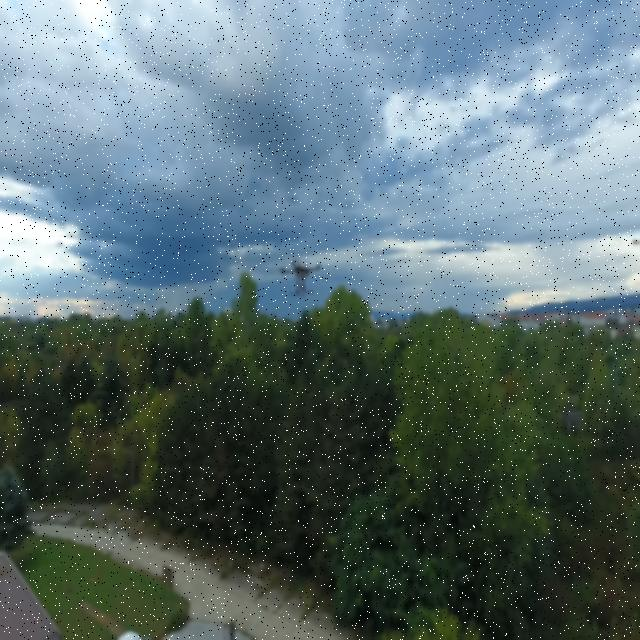UAV: (274, 255, 326, 294)
